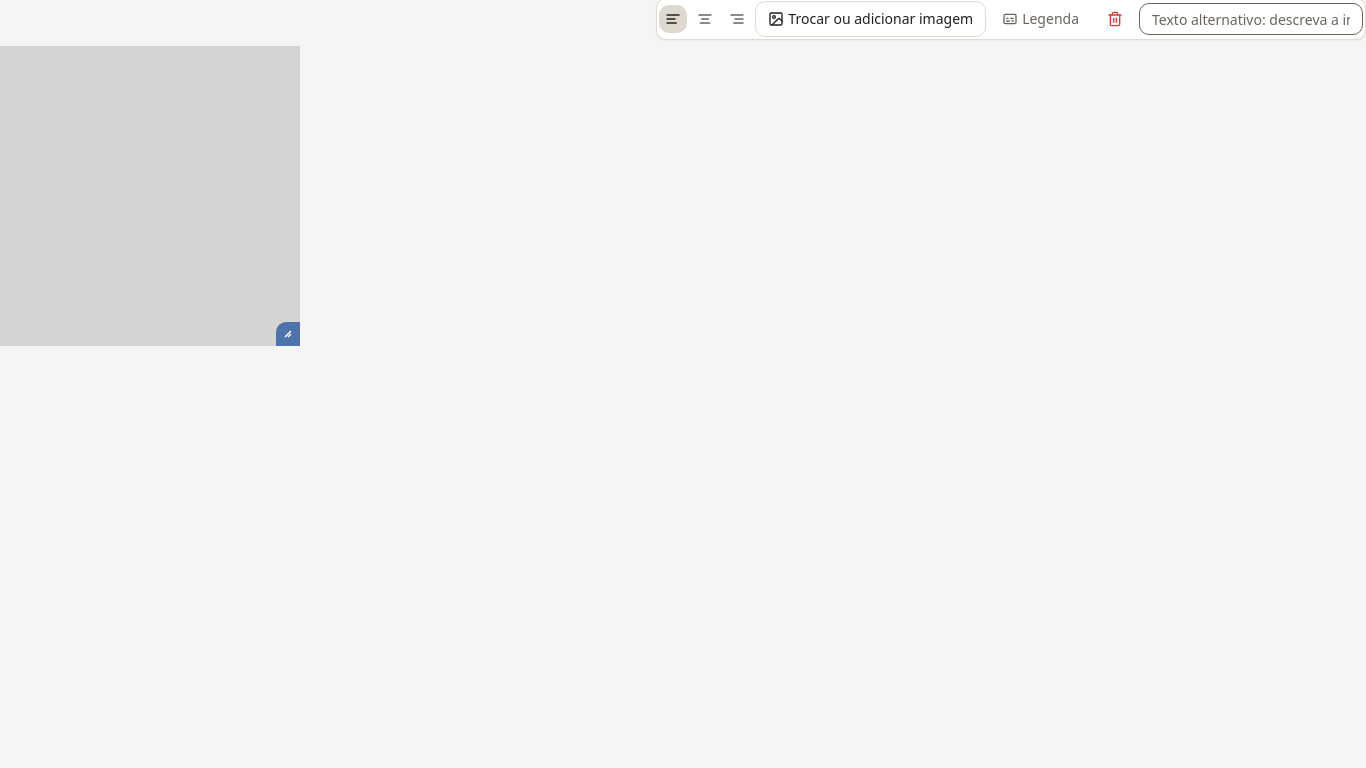
ImageNodeView — foco ao sair da confirmação sem excluir (achado 0354) › não rouba o foco da folha quando a saída é confirmar a exclusão
Click the button named "Excluir imagem".
click(1115, 19)  # box x1=1095 y1=1 x2=1135 y2=37
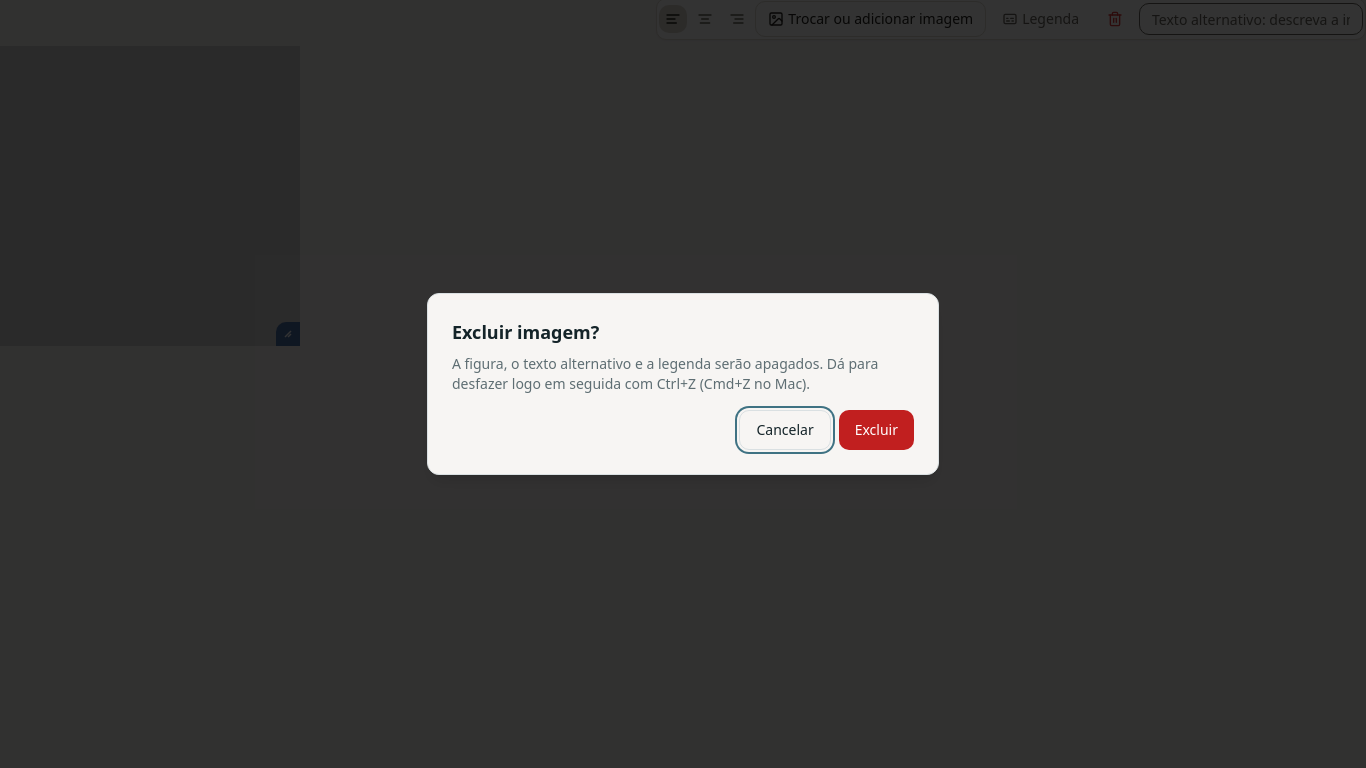
Click the button "Excluir".
click(876, 430)  # box x1=839 y1=410 x2=914 y2=450
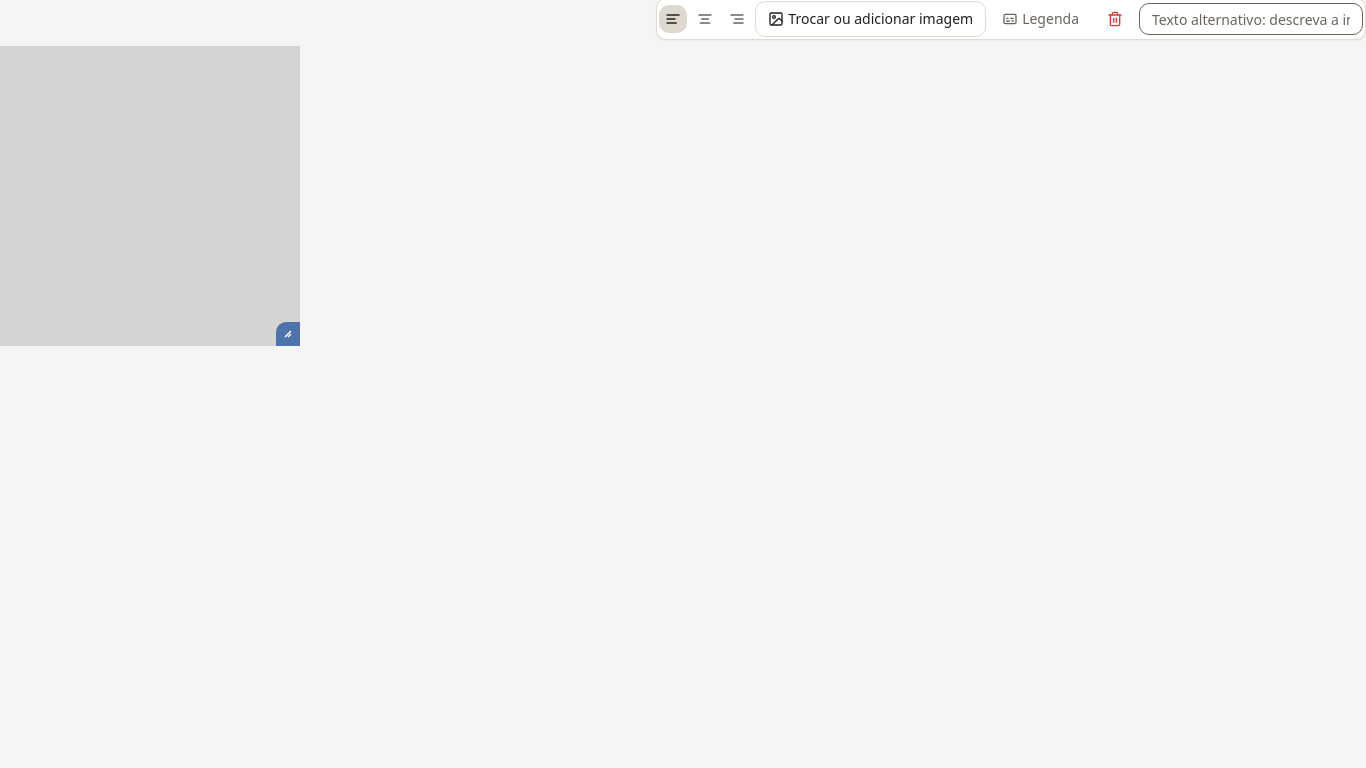
Check: the dialog is gone
